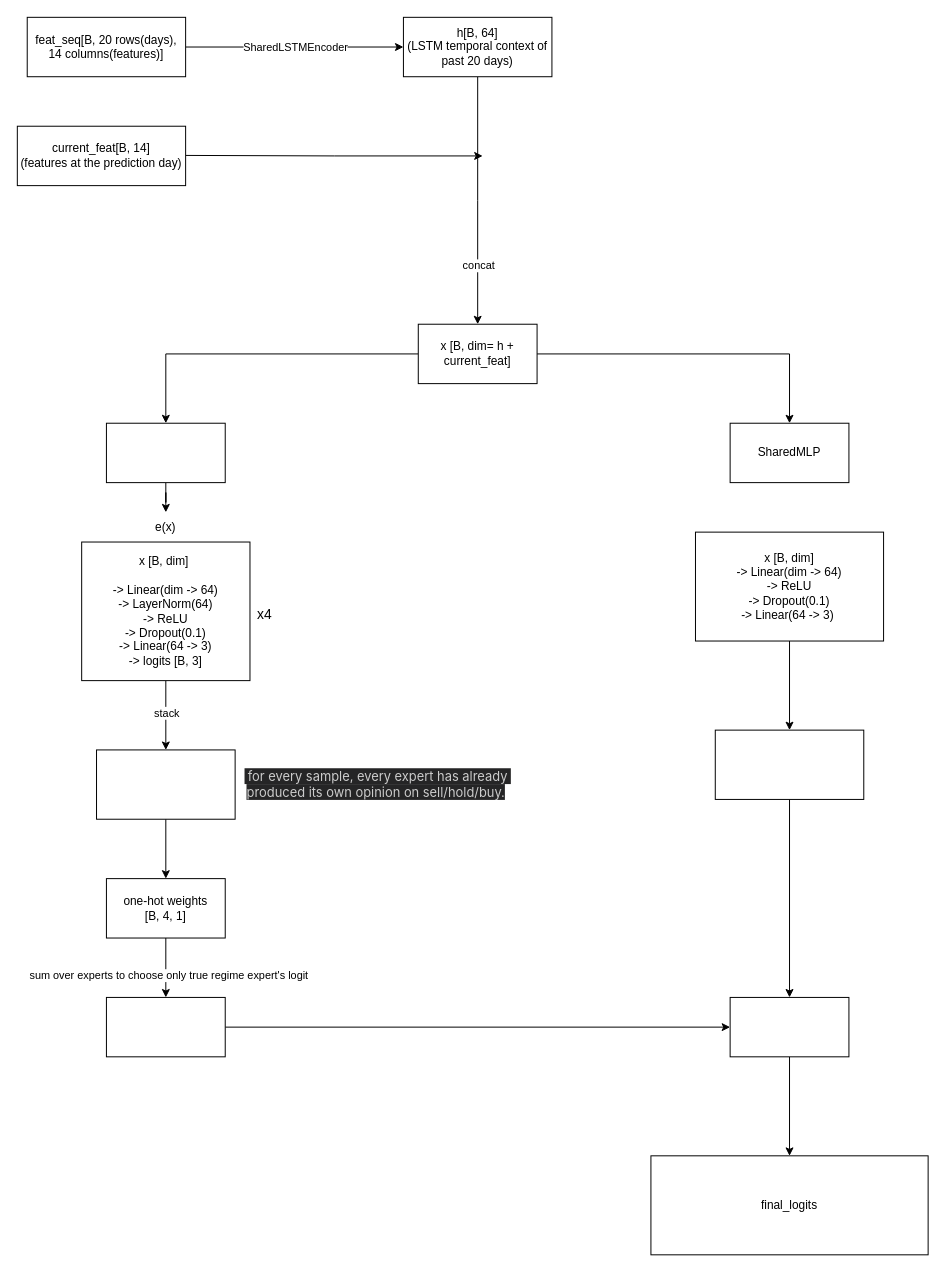
Image size: 945x1272. Some labels were removed from this diagram. Here are the shapes that lost their labels. From the top down, the centre of each, then its label:
At point 165,452: "ExpertMLP (soft)".
At point 165,784: "all_logits [B, 4, 3] (4 experts, 3 classes)".
At point 789,764: "shared_logits [B, 3]".
At point 165,1026: "expert_logits [B, 3] sell/hold/buy".
At point 789,1026: "+ 0.3x".
